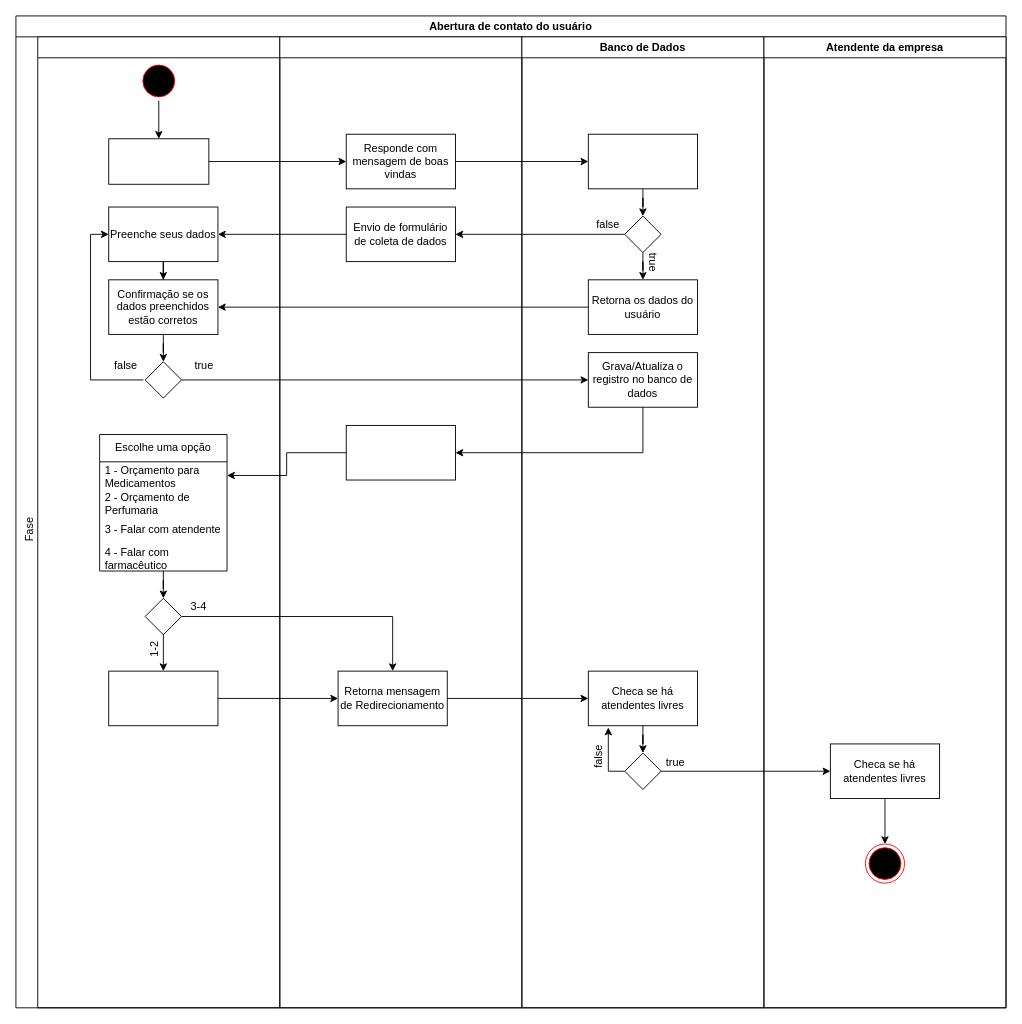
This 1022x1024 diagram has some shape labels left out. The shapes that lost their labels are listed below. From the top down, each one's box as (x1, y1, x2, y2) in pixels, then its label:
(108, 138, 209, 184): Manda mensagem
(587, 133, 698, 189): Checa se o usuário já foi cadastrado
(345, 425, 455, 480): Retorna o Menu de Opções
(37, 36, 280, 1008): Usuário
(279, 36, 522, 1008): Sistema
(108, 670, 218, 726): Informa dados adicionais do produto
